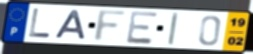0: (197, 14, 222, 47)
A: (54, 9, 88, 41)
E: (125, 10, 160, 46)
F: (92, 9, 130, 43)
I: (166, 12, 180, 47)
L: (27, 7, 52, 39)
